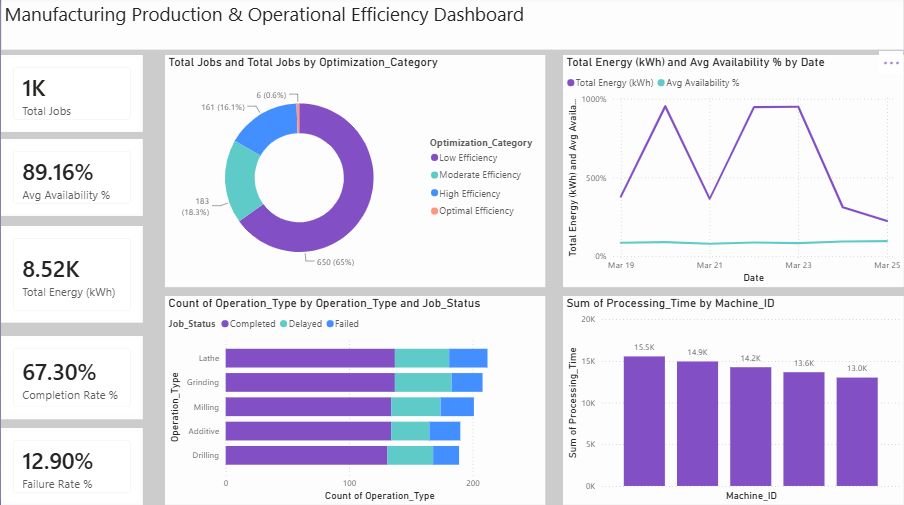

The page's visual inventory and layout, read from the dashboard file:
{"tool":"powerbi","page":{"name":"Page 1","canvas":[1280,720],"ordinal":0},"visuals":[{"type":"cardVisual","fields":{"Data":["_Mearsures.Total Jobs"]},"box":[0,82.2,201.3,109.1],"z":0},{"type":"cardVisual","fields":{"Data":["_Mearsures.Completion Rate %"]},"box":[0,480.5,201.3,117.6],"z":1000},{"type":"cardVisual","fields":{"Data":["_Mearsures.Failure Rate %","_Mearsures.Failure Rate %"]},"box":[0,610.9,201.3,109.1],"z":2000},{"type":"cardVisual","fields":{"Data":["_Mearsures.Avg Availability %"]},"box":[0,201.3,201.3,109.1],"z":3000},{"type":"cardVisual","fields":{"Data":["_Mearsures.Total Energy (kWh)","_Mearsures.Total Energy (kWh)"]},"box":[0,324.6,201.3,137.5],"z":4000},{"type":"barChart","fields":{"Y":["CountNonNull(hybrid_manufacturing_categorical.Operation_Type)"],"Series":["hybrid_manufacturing_categorical.Job_Status"],"Category":["hybrid_manufacturing_categorical.Operation_Type"]},"box":[232.4,423.8,538.6,296.2],"z":5000},{"type":"lineChart","fields":{"Category":["Dim_Date.Date.Variation.Date Hierarchy.Year"],"Y":["_Mearsures.Total Energy (kWh)","_Mearsures.Avg Availability %"]},"box":[796.5,82.2,483.3,328.8],"z":6000},{"type":"donutChart","fields":{"Category":["hybrid_manufacturing_categorical.Optimization_Category"],"Y":["_Mearsures.Total Jobs","_Mearsures.Total Jobs"]},"box":[232.4,82.2,538.6,328.8],"z":7000},{"type":"clusteredColumnChart","fields":{"Category":["hybrid_manufacturing_categorical.Machine_ID"],"Y":["Sum(hybrid_manufacturing_categorical.Processing_Time)"]},"box":[796.5,423.8,483.3,296.2],"z":8000},{"type":"textbox","box":[0,0,1279.8,75.1],"z":9000}]}

Visuals, with their boxes in screenshot pixels (x1, y1, x2, y2), scaled from the page's 1280x720 canvas onto the 904x505 screenshot:
cardVisual - _Mearsures.Total Jobs: [left=0, top=58, right=142, bottom=134]
cardVisual - _Mearsures.Completion Rate %: [left=0, top=337, right=142, bottom=420]
cardVisual - _Mearsures.Failure Rate % x _Mearsures.Failure Rate %: [left=0, top=428, right=142, bottom=504]
cardVisual - _Mearsures.Avg Availability %: [left=0, top=141, right=142, bottom=218]
cardVisual - _Mearsures.Total Energy (kWh) x _Mearsures.Total Energy (kWh): [left=0, top=228, right=142, bottom=324]
barChart - CountNonNull(hybrid_manufacturing_categorical.Operation_Type) x hybrid_manufacturing_categorical.Job_Status: [left=164, top=297, right=545, bottom=504]
lineChart - Dim_Date.Date.Variation.Date Hierarchy.Year x _Mearsures.Total Energy (kWh): [left=563, top=58, right=903, bottom=288]
donutChart - hybrid_manufacturing_categorical.Optimization_Category x _Mearsures.Total Jobs: [left=164, top=58, right=545, bottom=288]
clusteredColumnChart - hybrid_manufacturing_categorical.Machine_ID x Sum(hybrid_manufacturing_categorical.Processing_Time): [left=563, top=297, right=903, bottom=504]
textbox: [left=0, top=0, right=903, bottom=53]
